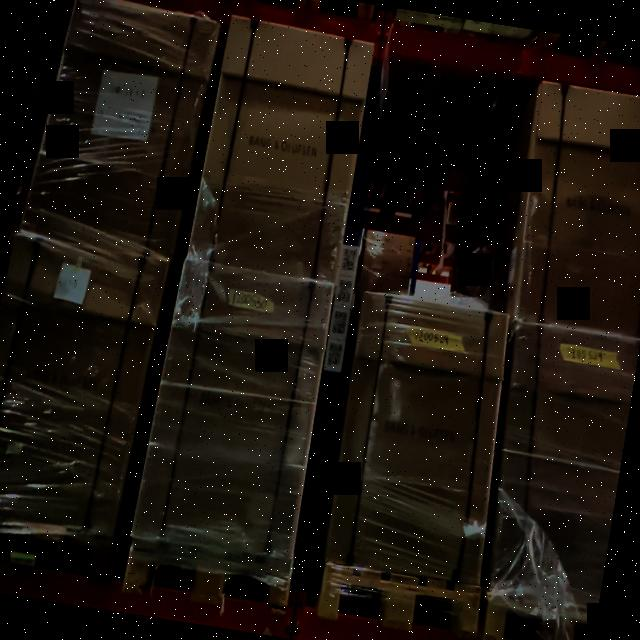box: (133, 263, 333, 556), (326, 292, 508, 588), (21, 0, 221, 262), (187, 13, 374, 285)
